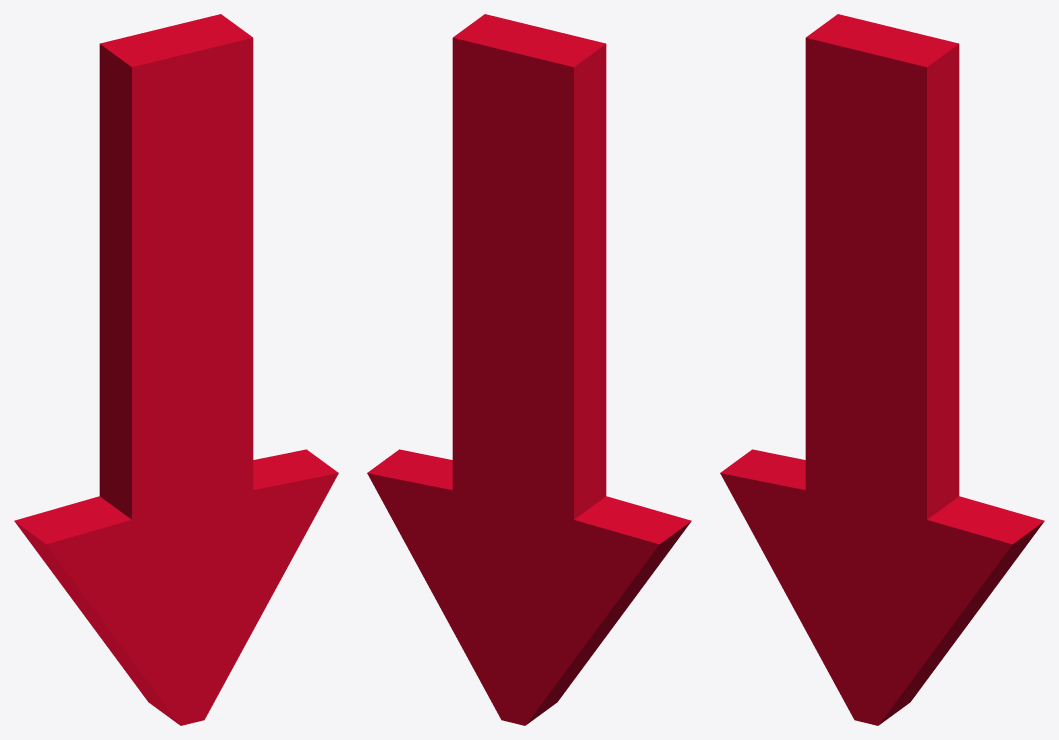
The model's file is arrow.fbx.
3 renders of one model, left to right at view 1: azimuth 30°, elevation 25°; view 2: azimuth 150°, elevation 25°; view 3: azimuth 330°, elevation 25°, orthographic.
Parts seen in each view (by area): view 1: Cube; view 2: Cube; view 3: Cube.
Part boxes in pixels (left/top/right/bottom): Cube: left=14, top=14, right=338, bottom=725; Cube: left=367, top=14, right=691, bottom=725; Cube: left=720, top=14, right=1044, bottom=725.
Size of the model in its own units: 135 by 296 by 25.9.
